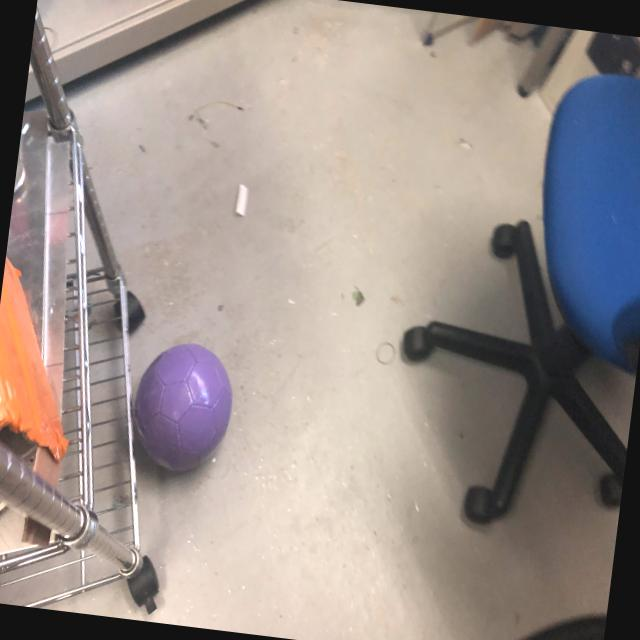purple_ball: (126, 340, 238, 477)
